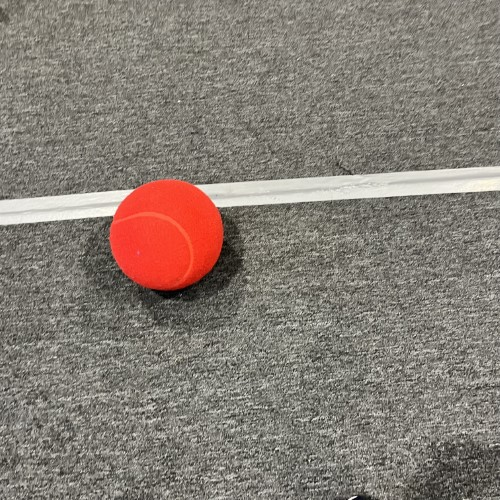red: (106, 176, 226, 293)
